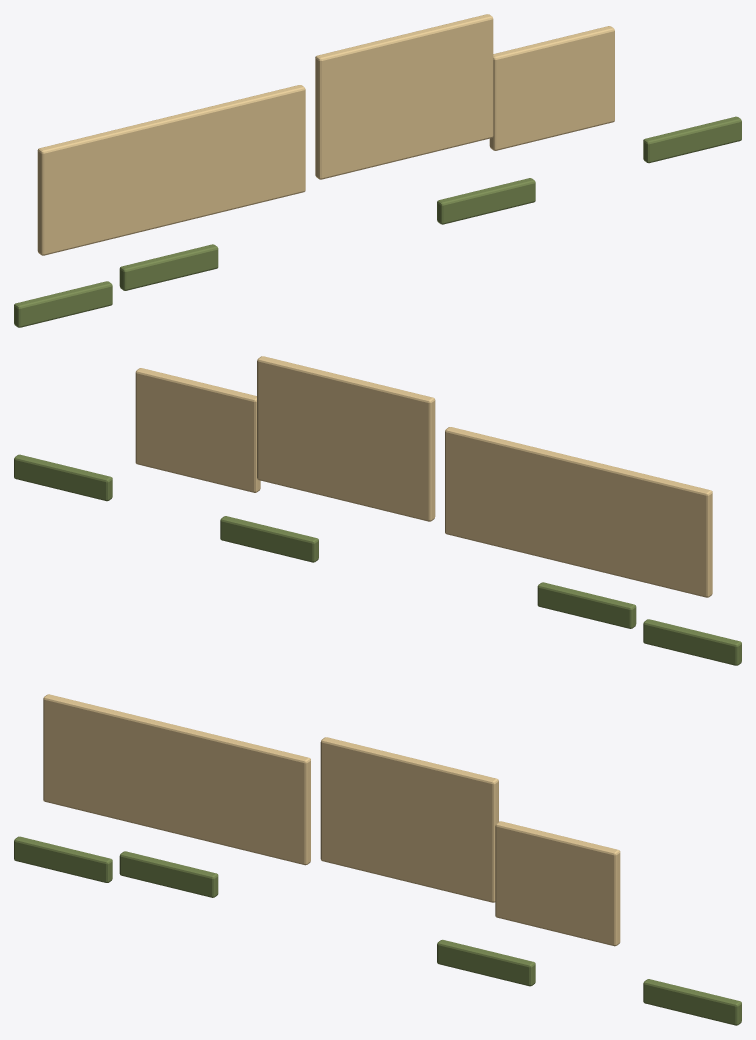
The model's file is overlay_lime_repair__weathering.glb.
3 views of the same model, one above another, from view 1: azimuth 30°, elevation 25°; view 2: azimuth 150°, elevation 25°; view 3: azimuth 330°, elevation 25° (orthographic).
Parts seen in each view (by area): view 1: overlay_lime_repair__weathering__mesh_00; view 2: overlay_lime_repair__weathering__mesh_00; view 3: overlay_lime_repair__weathering__mesh_00.
Part boxes in pixels (bbox=[...]): overlay_lime_repair__weathering__mesh_00: bbox=[14, 14, 741, 327]; overlay_lime_repair__weathering__mesh_00: bbox=[14, 356, 741, 665]; overlay_lime_repair__weathering__mesh_00: bbox=[14, 694, 741, 1025].
Size of the model in its own units: 1.37 by 0.35 by 0.027.
